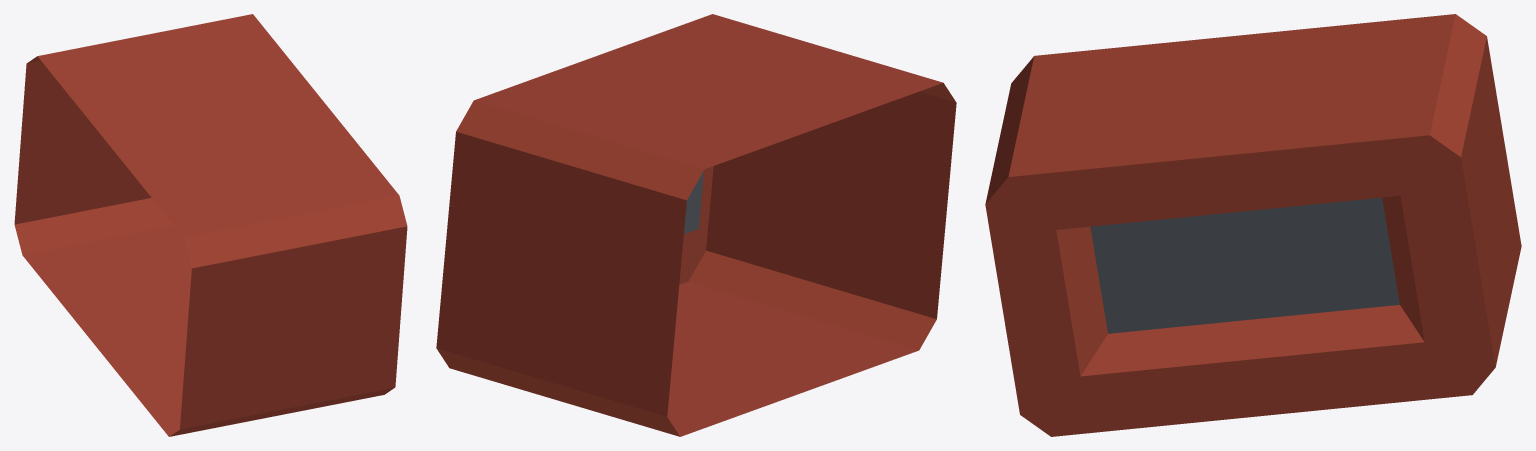
Rendered from Personal_Vehicle_01_Detail_3_Red.fbx.
The picture shows the model from 3 angles, left to right: view 1: azimuth 30°, elevation 25°; view 2: azimuth 150°, elevation 25°; view 3: azimuth 270°, elevation 25°; orthographic projection. The views are drawn at different scales.
Visible parts, largest first — view 1: Personal_Vehicle_01_Detail_3_Red; view 2: Personal_Vehicle_01_Detail_3_Red; view 3: Personal_Vehicle_01_Detail_3_Red.
Part boxes in pixels (<box>): Personal_Vehicle_01_Detail_3_Red: <box>14,14,407,436</box>; Personal_Vehicle_01_Detail_3_Red: <box>436,14,956,436</box>; Personal_Vehicle_01_Detail_3_Red: <box>985,14,1521,436</box>.
Size of the model in its own units: 17.9 by 18.75 by 28.82.
1 material, 1 textured.
